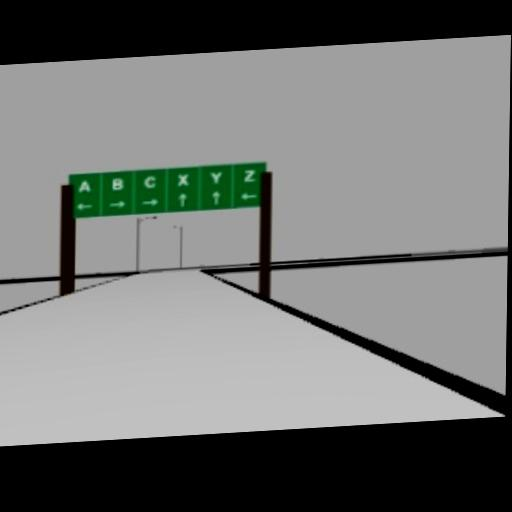A: (78, 178, 90, 191)
B: (111, 177, 123, 189)
C: (143, 175, 155, 187)
Left: (239, 192, 257, 200), (76, 202, 92, 210)
Right: (141, 198, 159, 206), (107, 200, 125, 208)
Straight: (210, 191, 221, 205), (177, 193, 186, 207)
X: (176, 173, 188, 185)
Y: (209, 169, 221, 183)
Z: (243, 169, 255, 181)
